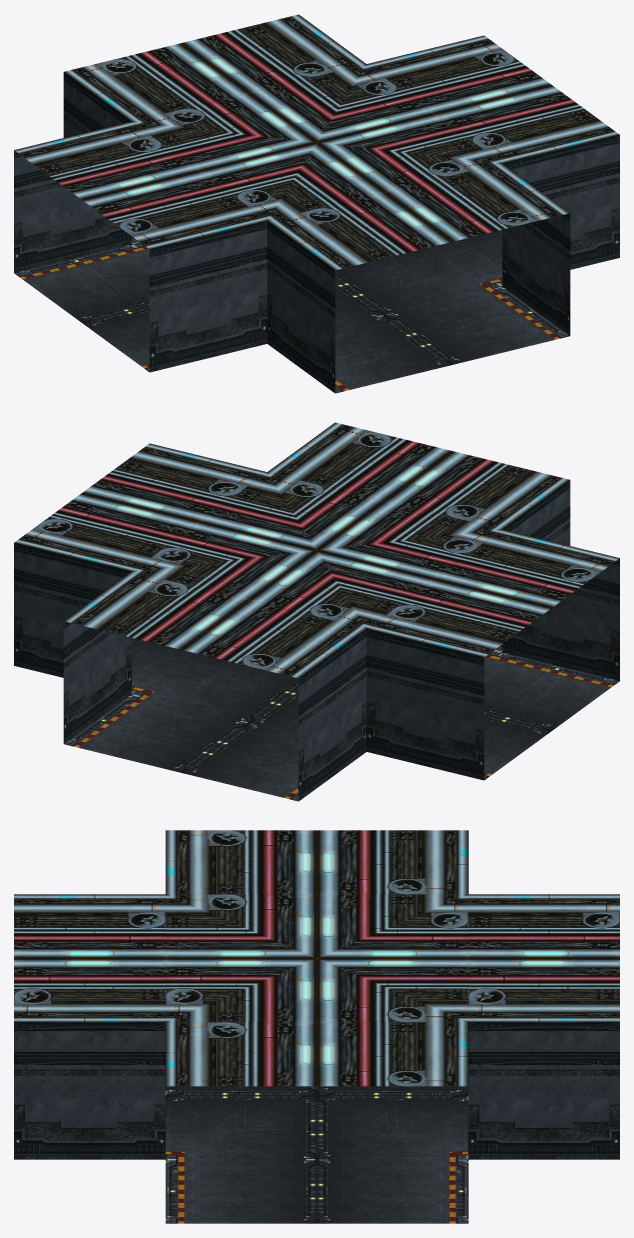
The model's file is pbatun01.FBX.
3 views of the same model, one above another, from view 1: azimuth 30°, elevation 25°; view 2: azimuth 150°, elevation 25°; view 3: azimuth 270°, elevation 25° (orthographic). The views are drawn at different scales.
Visible parts, largest first — view 1: pbatun01; view 2: pbatun01; view 3: pbatun01.
Boxes of the visible parts, x1,y1,x2,y2 form: pbatun01: (14,14,619,393); pbatun01: (14,422,619,801); pbatun01: (14,830,619,1223).
Size of what is drawn, in the model's own units: 32 by 32 by 8.
